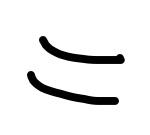eqv: (27, 36, 125, 106)
